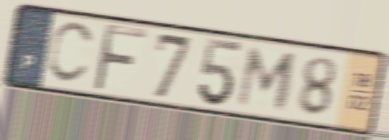5: (195, 35, 245, 110)
7: (153, 29, 193, 101)
8: (297, 55, 340, 119)
C: (44, 21, 98, 87)
F: (90, 20, 149, 95)
M: (234, 45, 301, 113)
